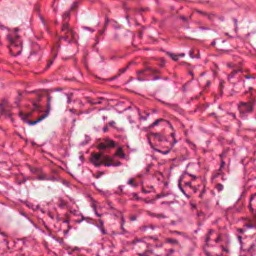mitosis: (213, 59, 223, 69)
